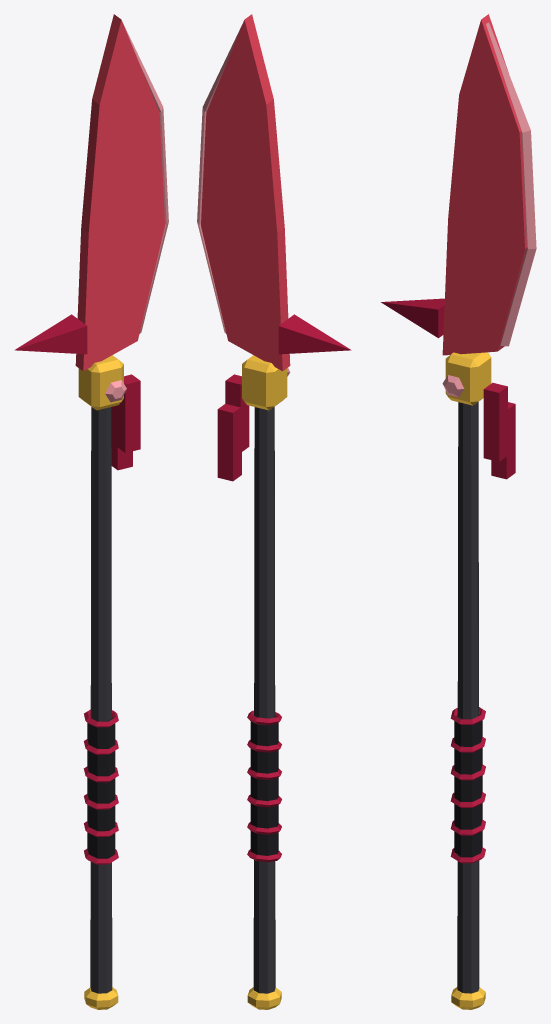
Rendered from RubyGlaive.fbx.
3 renders of one model, left to right at view 1: azimuth 30°, elevation 25°; view 2: azimuth 150°, elevation 25°; view 3: azimuth 330°, elevation 25°, orthographic.
Visible parts, largest first — view 1: RubyGlaive; view 2: RubyGlaive; view 3: RubyGlaive.
Part boxes in pixels (x1,y1,x2,y2): RubyGlaive: (14, 14, 168, 1009); RubyGlaive: (197, 14, 351, 1009); RubyGlaive: (381, 14, 536, 1009).
Size of the model in its own units: 1.42 by 8.62 by 0.46.
Materials: 1 (1 with a texture image).
